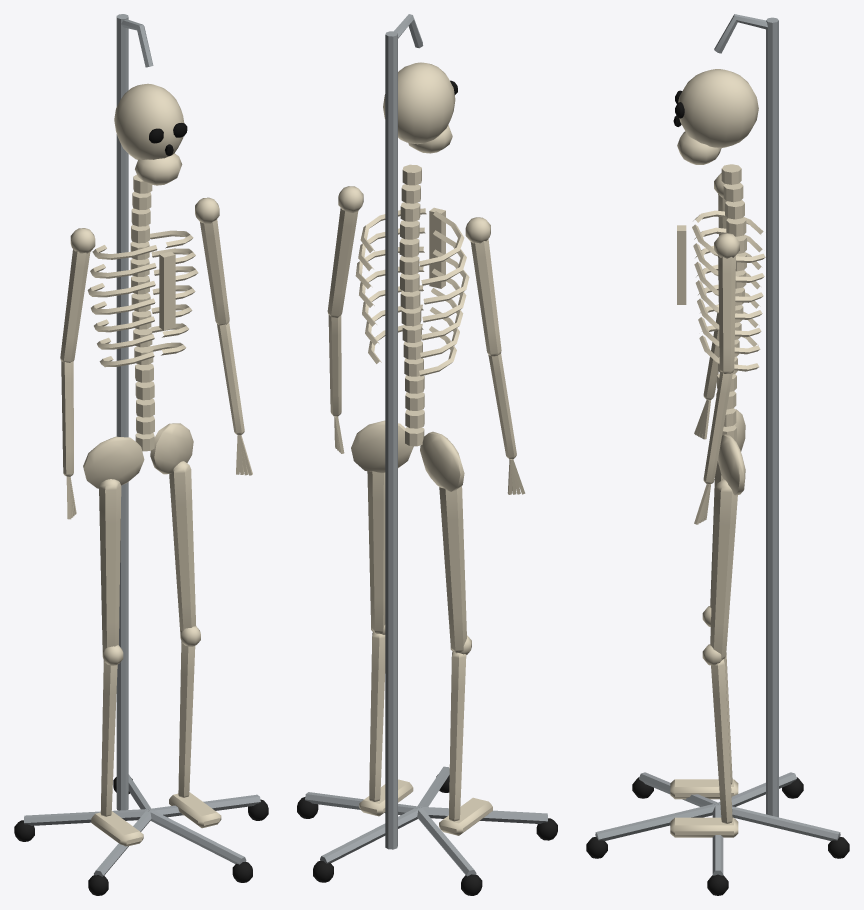
File: anatomy_skeleton.glb
3 views of the same model, side by side, from view 1: azimuth 30°, elevation 25°; view 2: azimuth 150°, elevation 25°; view 3: azimuth 270°, elevation 25° (orthographic). The views are drawn at different scales.
Parts seen in each view (by area): view 1: AnatomySkeleton; view 2: AnatomySkeleton; view 3: AnatomySkeleton.
Part boxes in pixels (left/top/right/bottom): AnatomySkeleton: left=14, top=14, right=268, bottom=895; AnatomySkeleton: left=297, top=14, right=557, bottom=895; AnatomySkeleton: left=586, top=14, right=849, bottom=895.
Bounding box in the file's own units: 0.5541 × 2.01 × 0.5801.
